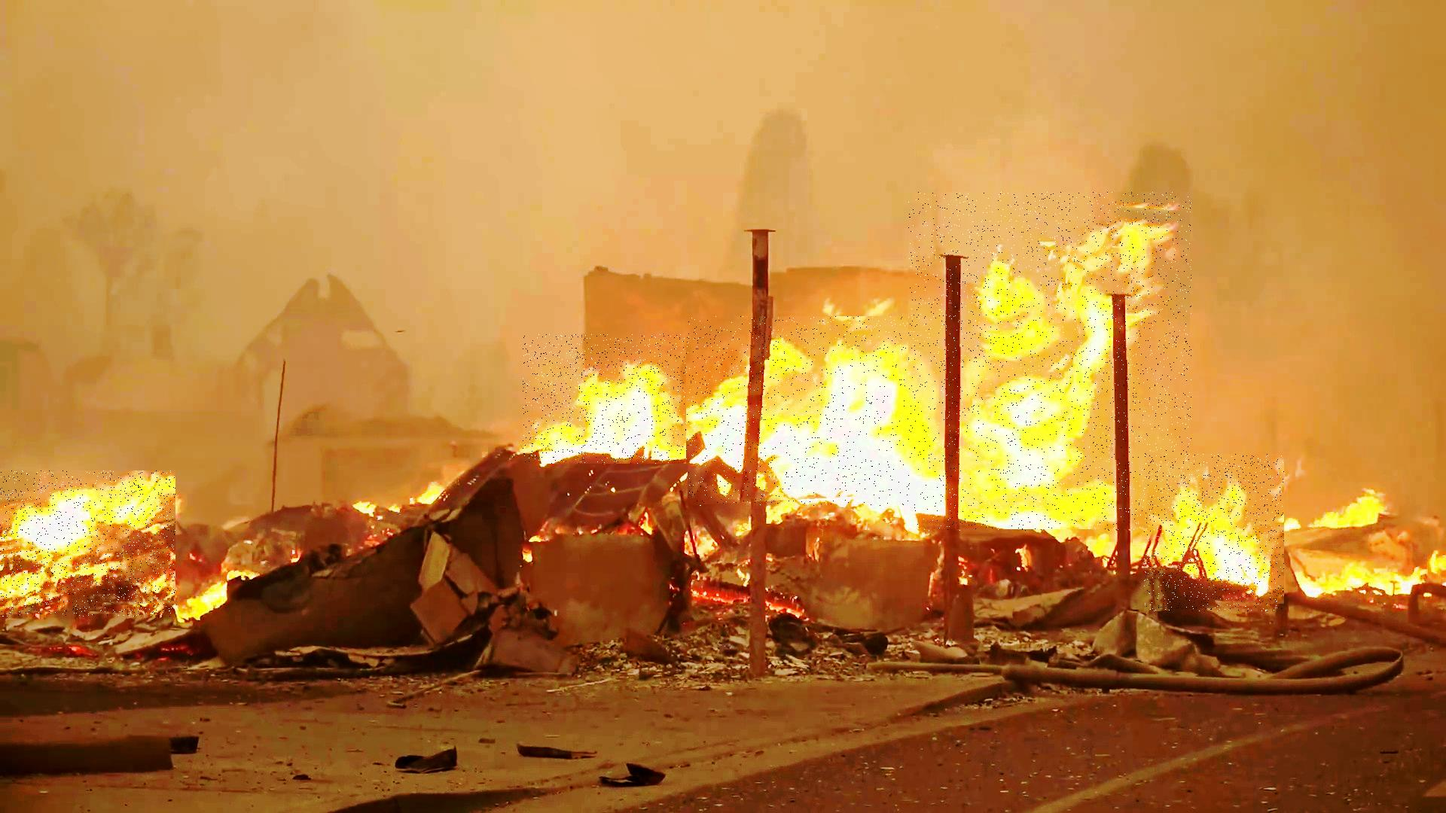fire: (909, 193, 1192, 531), (688, 317, 964, 506), (523, 334, 720, 464), (0, 471, 175, 617), (1144, 454, 1284, 611)
